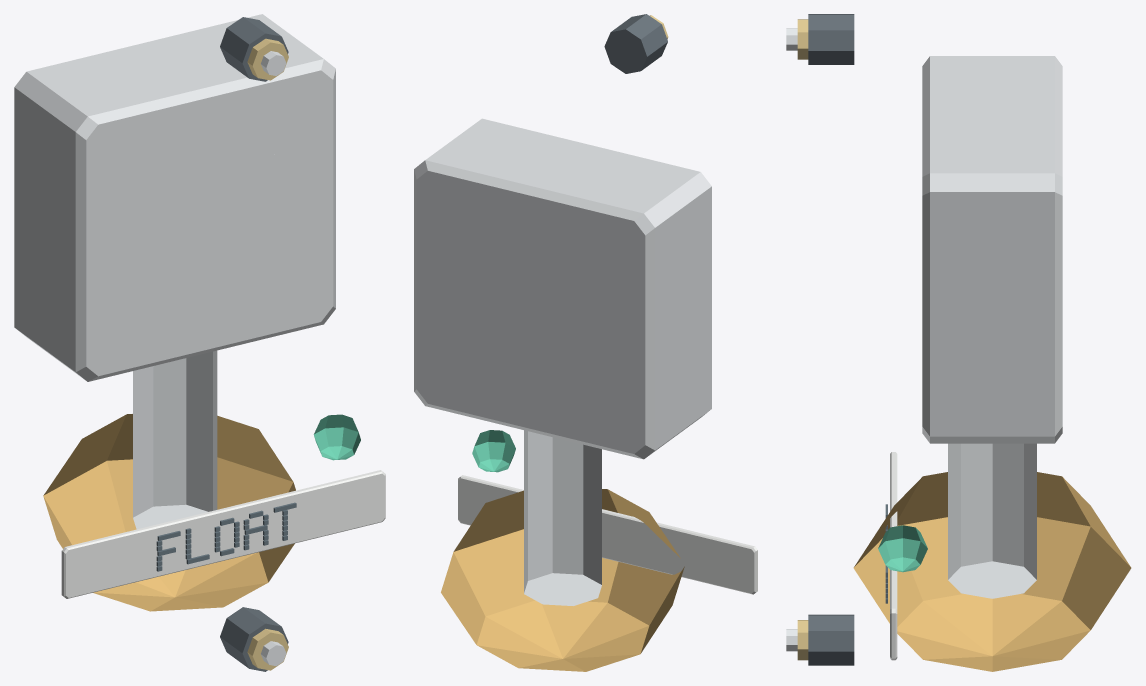
The model's file is floatSwitch.glb.
The picture shows the model from 3 angles, left to right: view 1: azimuth 30°, elevation 25°; view 2: azimuth 150°, elevation 25°; view 3: azimuth 270°, elevation 25°; orthographic projection. The views are drawn at different scales.
Parts seen in each view (by area): view 1: floatSwitch-board; view 2: floatSwitch-board; view 3: floatSwitch-board.
Part boxes in pixels (<box>): floatSwitch-board: <box>14,14,385,671</box>; floatSwitch-board: <box>414,14,757,671</box>; floatSwitch-board: <box>786,14,1131,671</box>.
Size of the model in its own units: 1.33 by 2.52 by 1.22.
